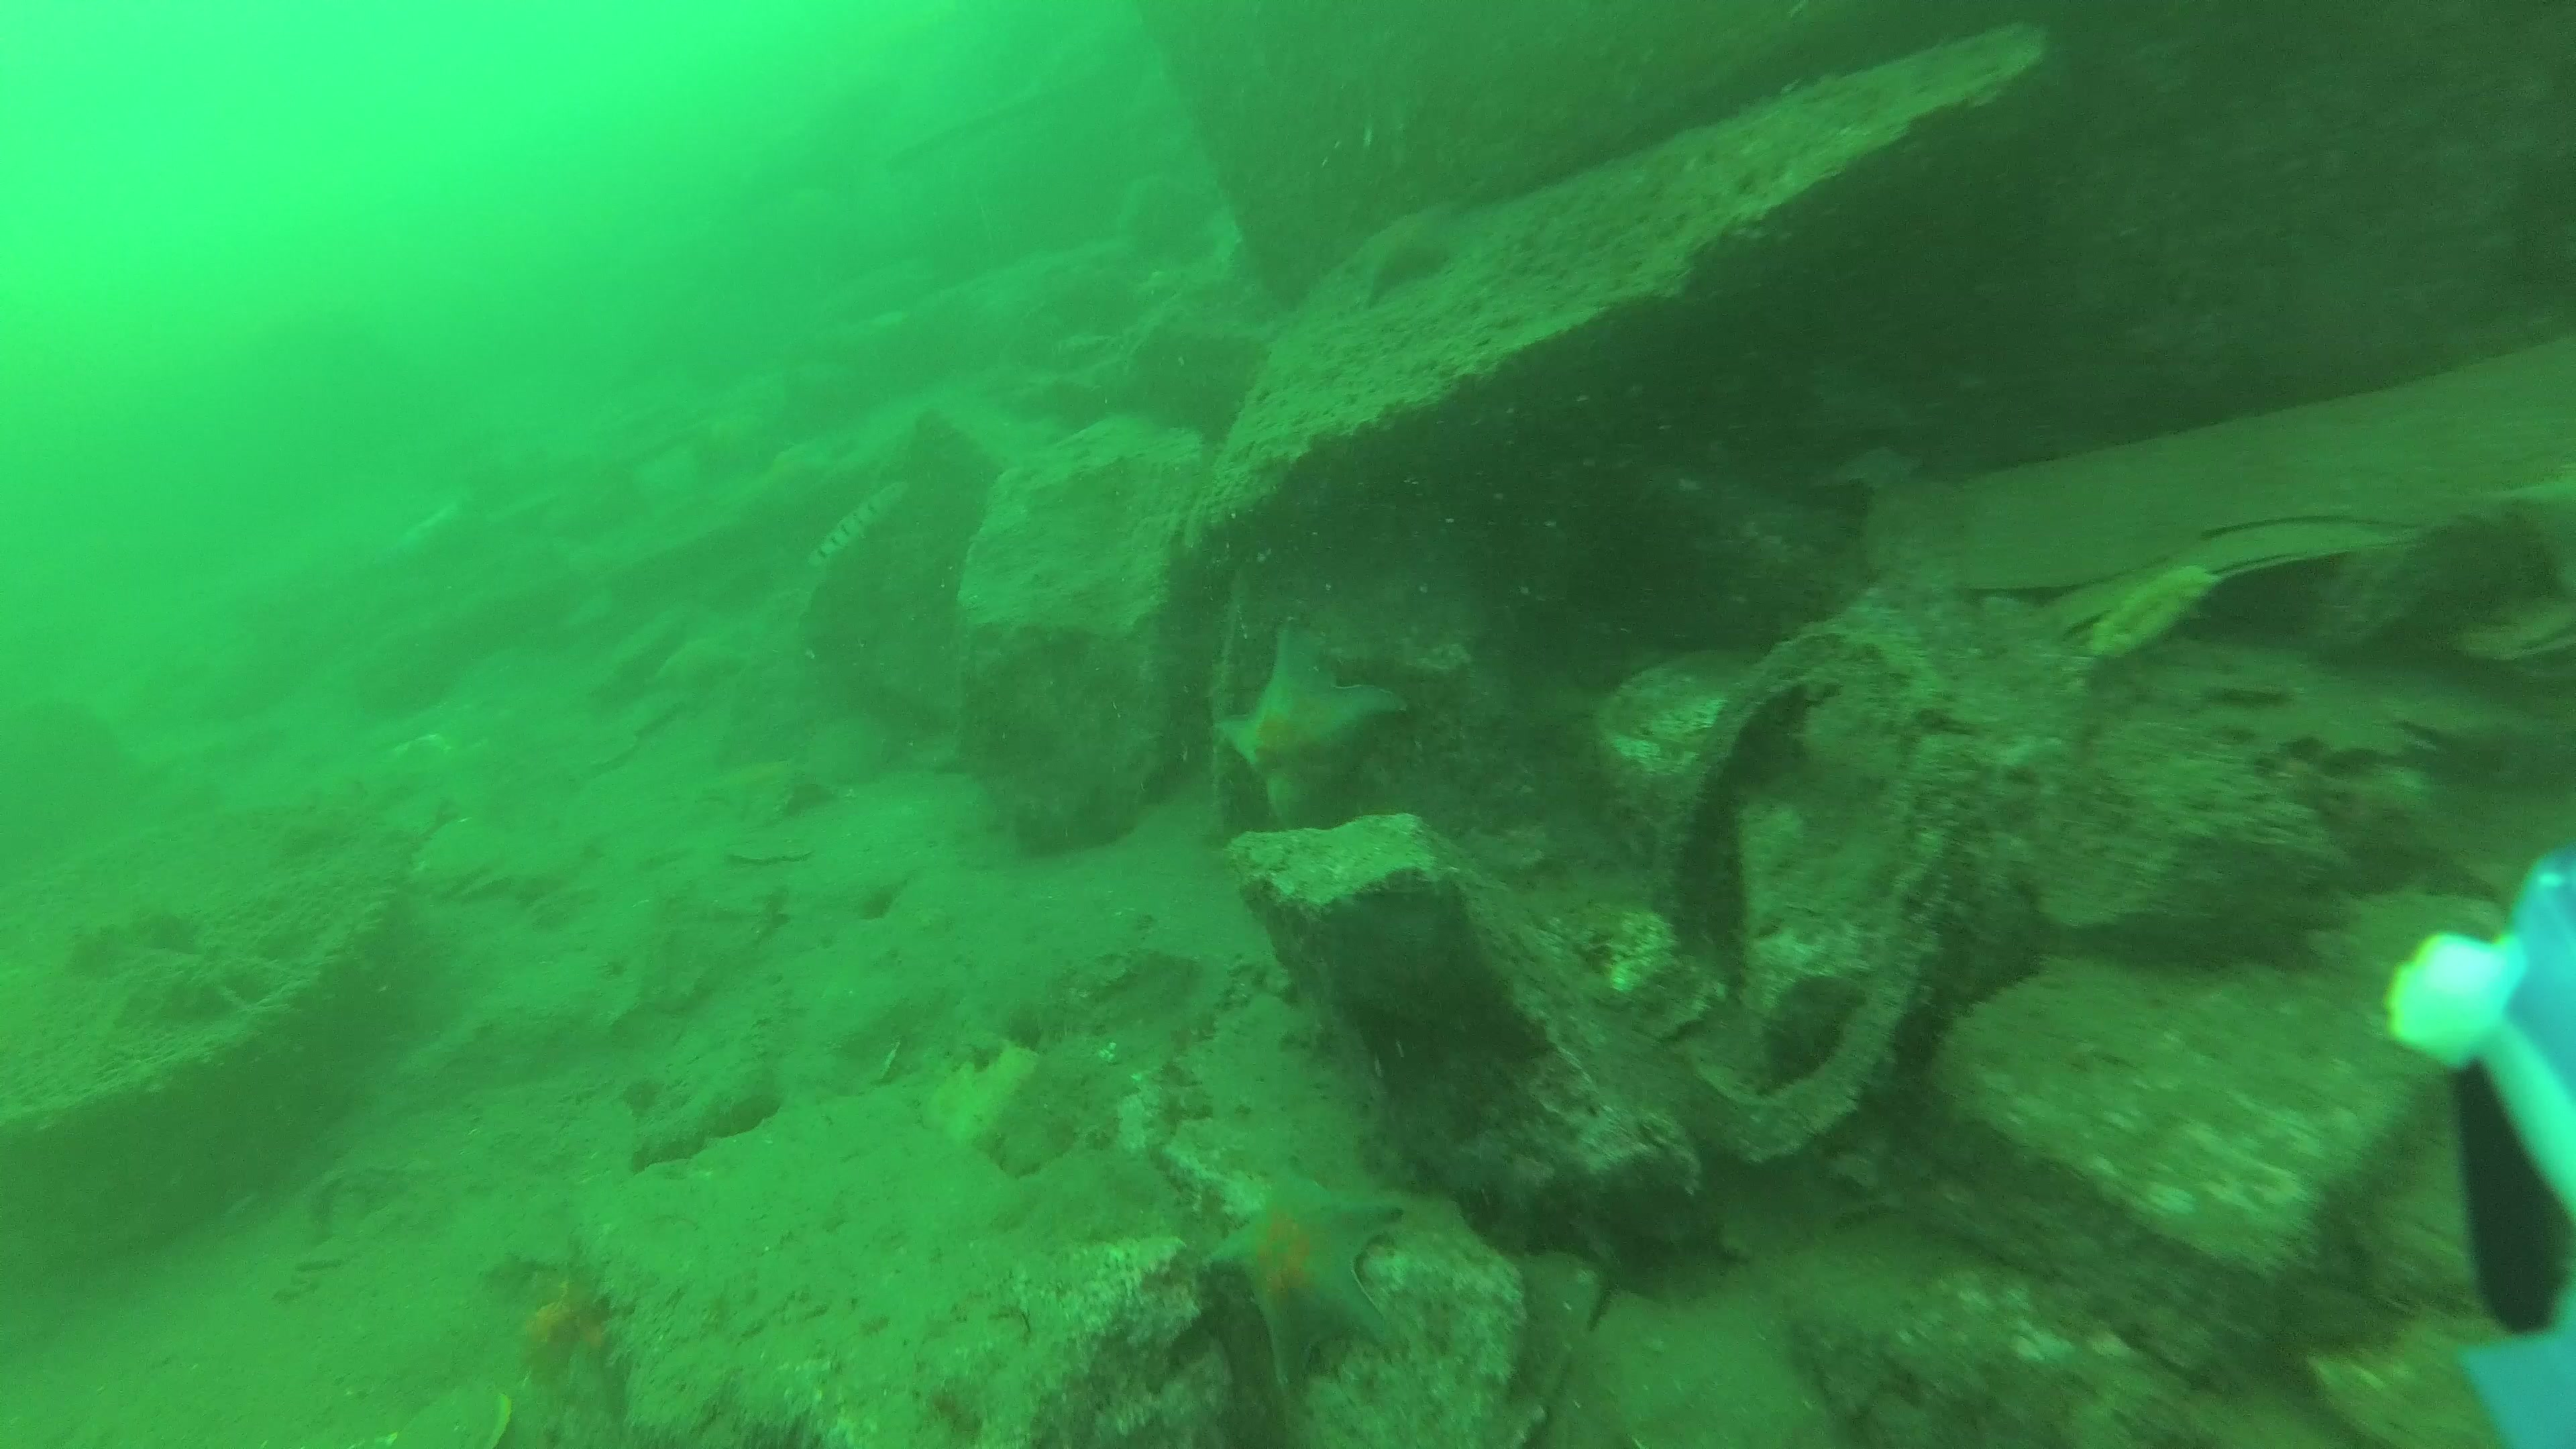starfish: (1203, 1182, 1408, 1394), (1219, 612, 1399, 828), (1338, 211, 1458, 308)
